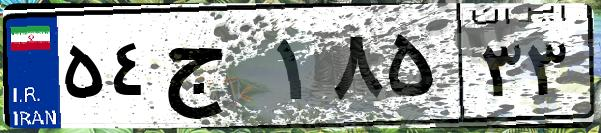1: (270, 28, 330, 110)
3: (475, 38, 525, 113), (525, 38, 570, 115)
4: (110, 28, 158, 98)
5: (385, 28, 445, 110), (57, 26, 110, 100)
8: (330, 28, 385, 110)
ج: (158, 20, 270, 120)
